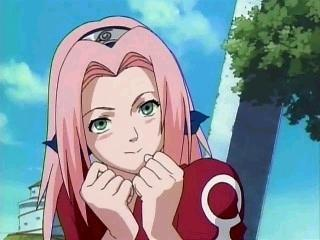sakura: (54, 21, 174, 175)
